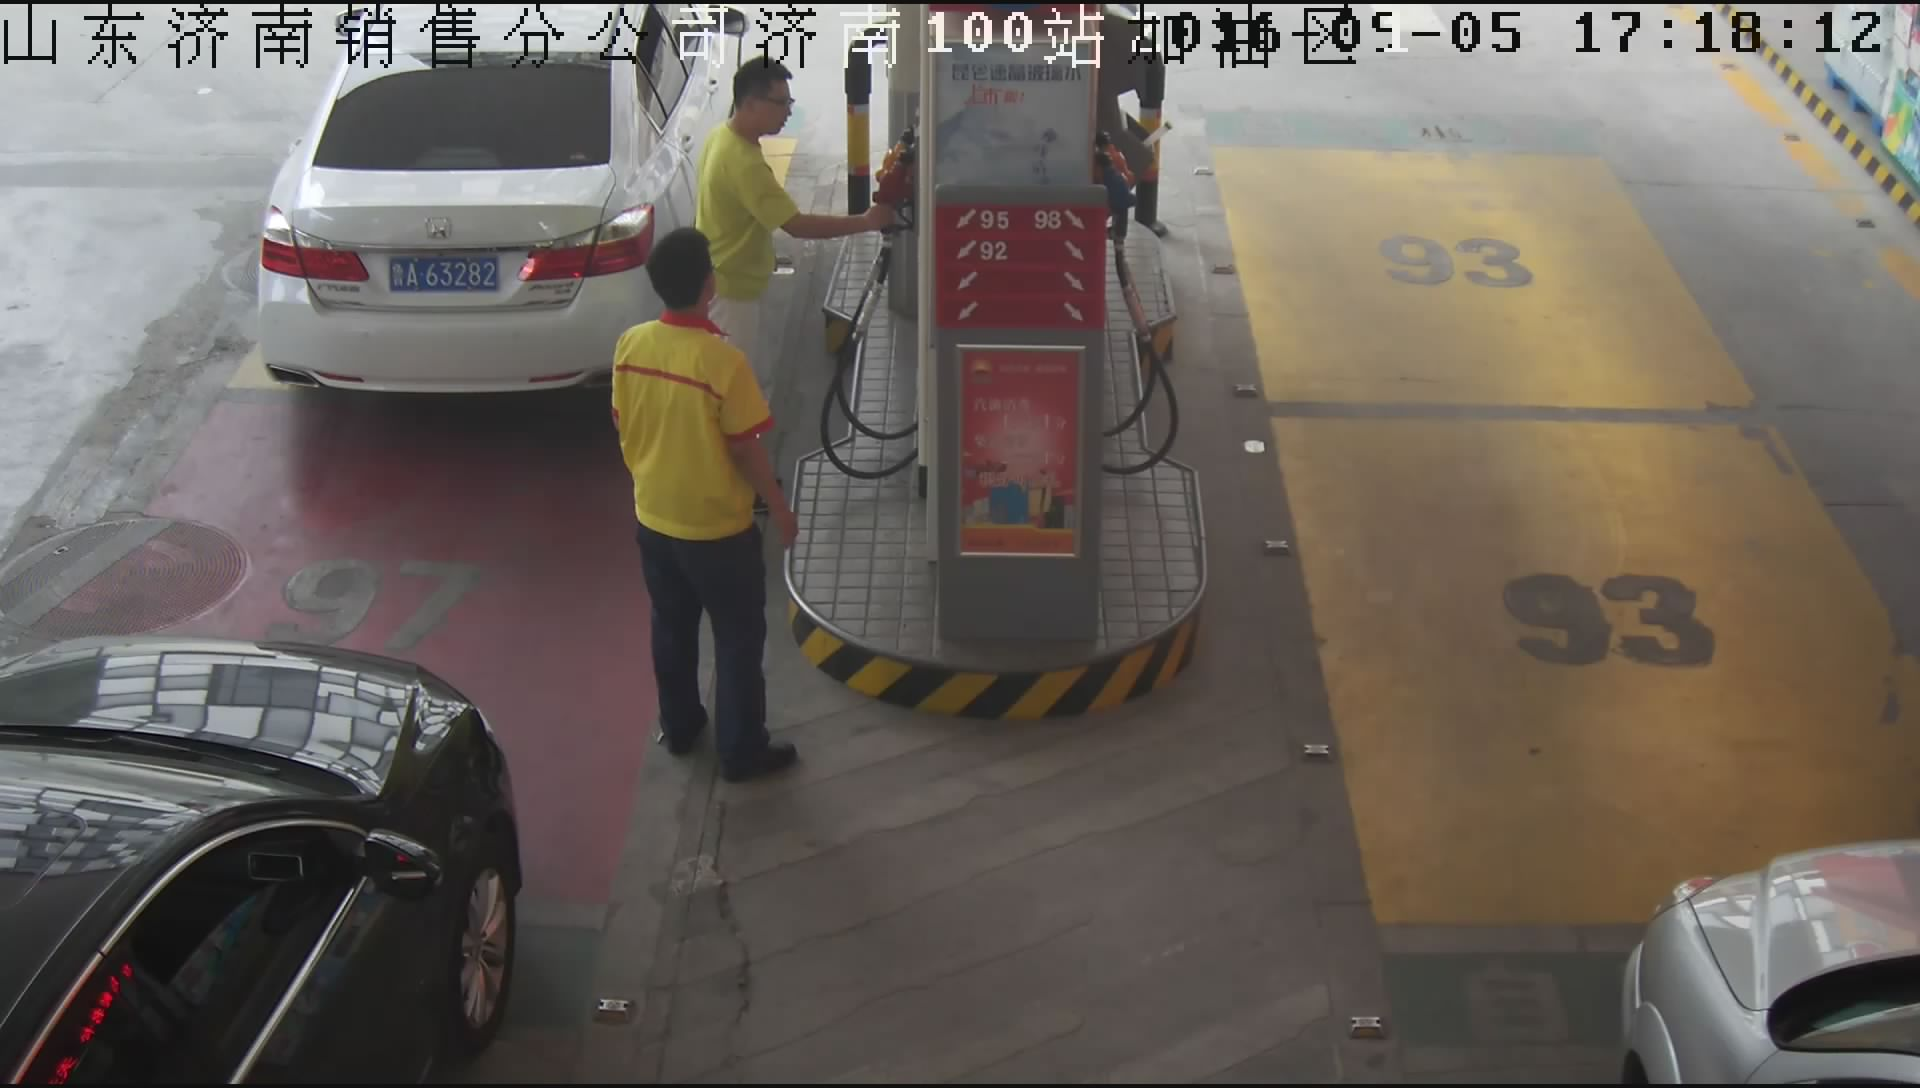blue: (388, 256, 502, 298)
